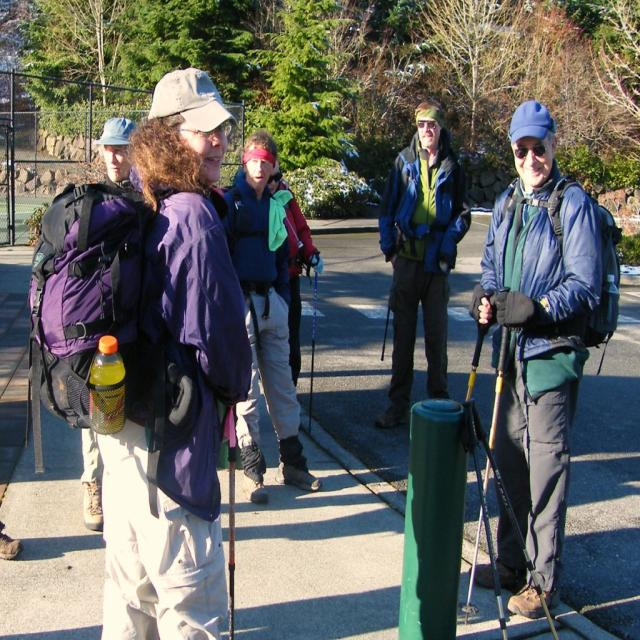backpack: (31, 162, 213, 443), (502, 186, 619, 350)
